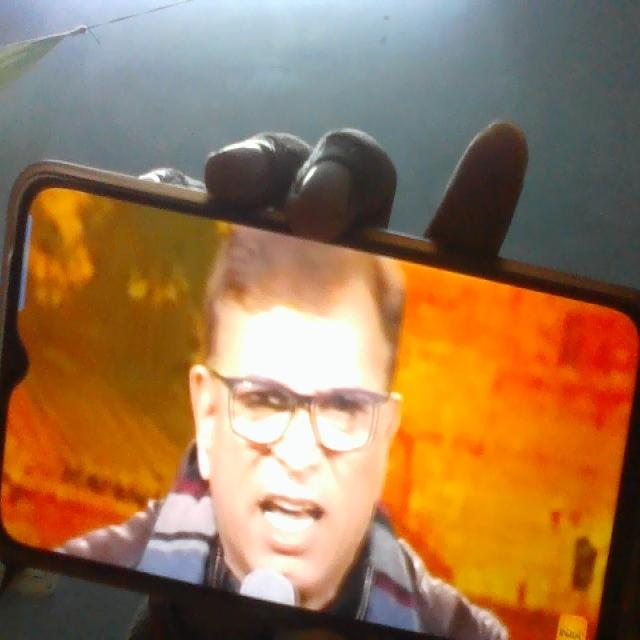fake: (193, 216, 405, 616)
